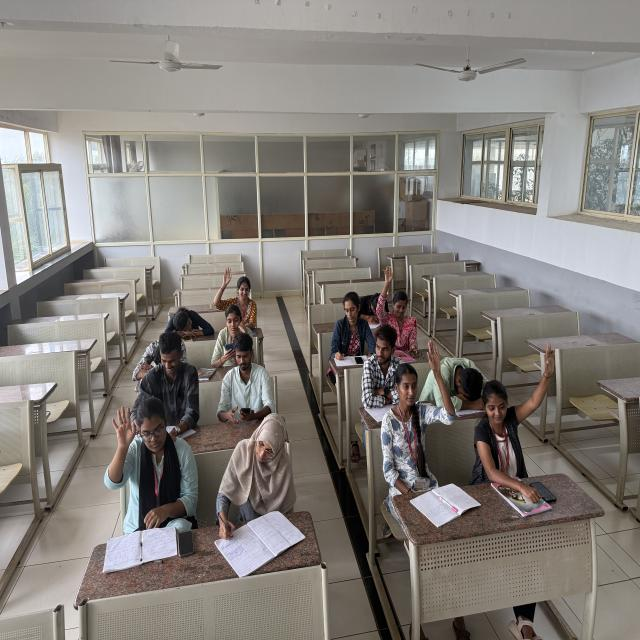Hand Rising: (482, 326, 562, 482), (386, 336, 454, 471), (105, 398, 180, 507), (377, 260, 416, 341), (214, 261, 257, 326)
Sleeping: (418, 346, 496, 422), (162, 301, 220, 347), (356, 291, 393, 327)
Using Phone: (214, 330, 278, 420), (213, 303, 251, 372)
Writing: (205, 409, 299, 547), (330, 289, 374, 366)
